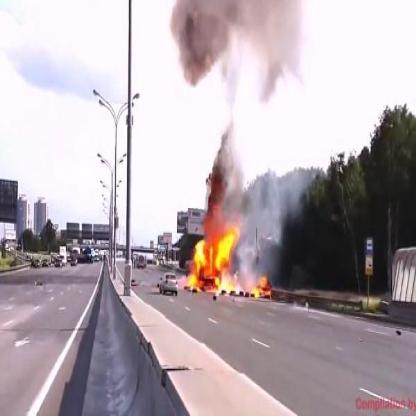fire: (184, 217, 242, 297), (250, 272, 275, 301)
